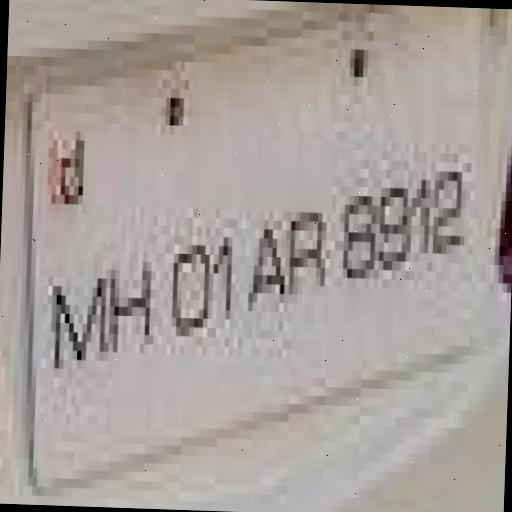number plate: (12, 74, 512, 411)
